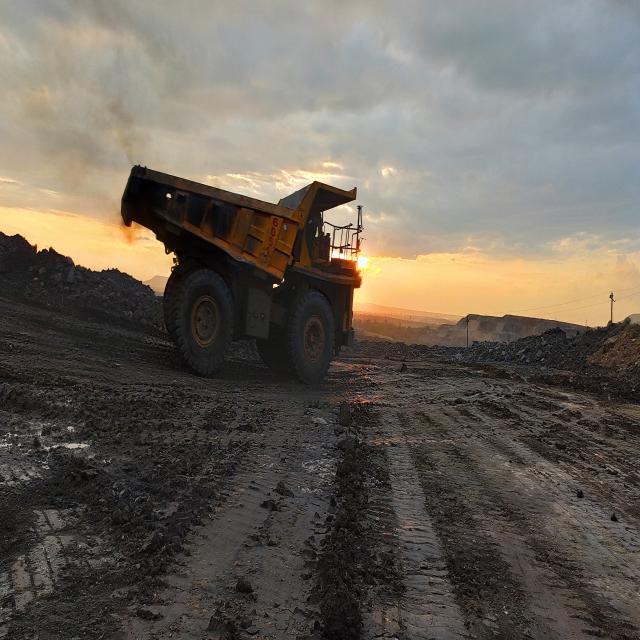dump_truck: (121, 164, 362, 382)
